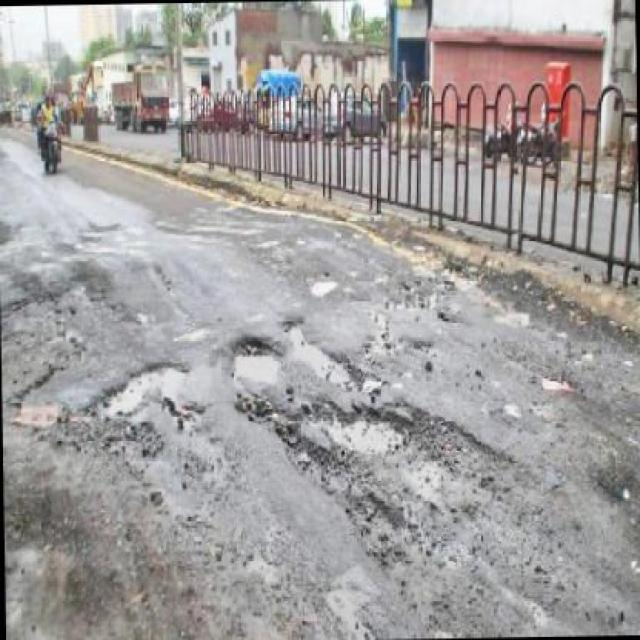pothole1: (272, 394, 514, 498), (89, 358, 193, 422), (279, 311, 356, 386), (226, 330, 283, 388), (386, 284, 446, 313), (11, 394, 63, 426), (310, 271, 338, 298)
